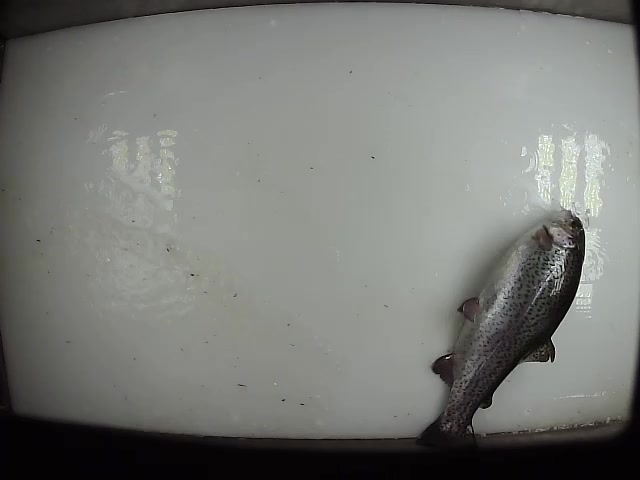fish: (416, 207, 588, 453)
